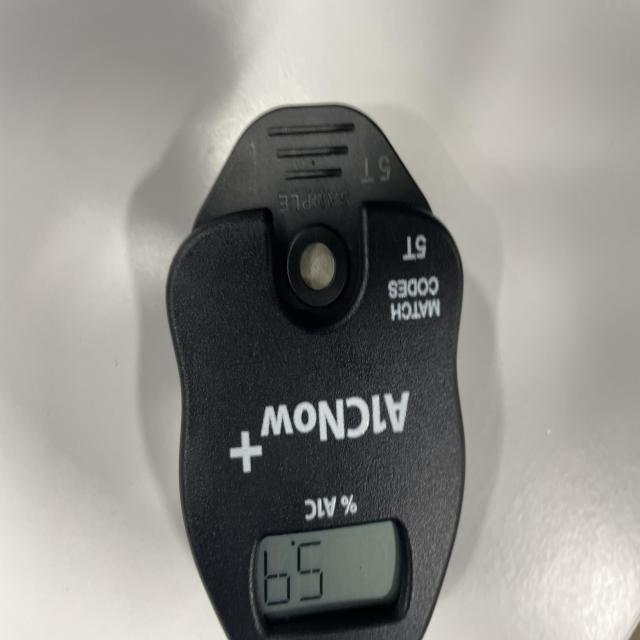hba1c: (164, 103, 468, 640)
